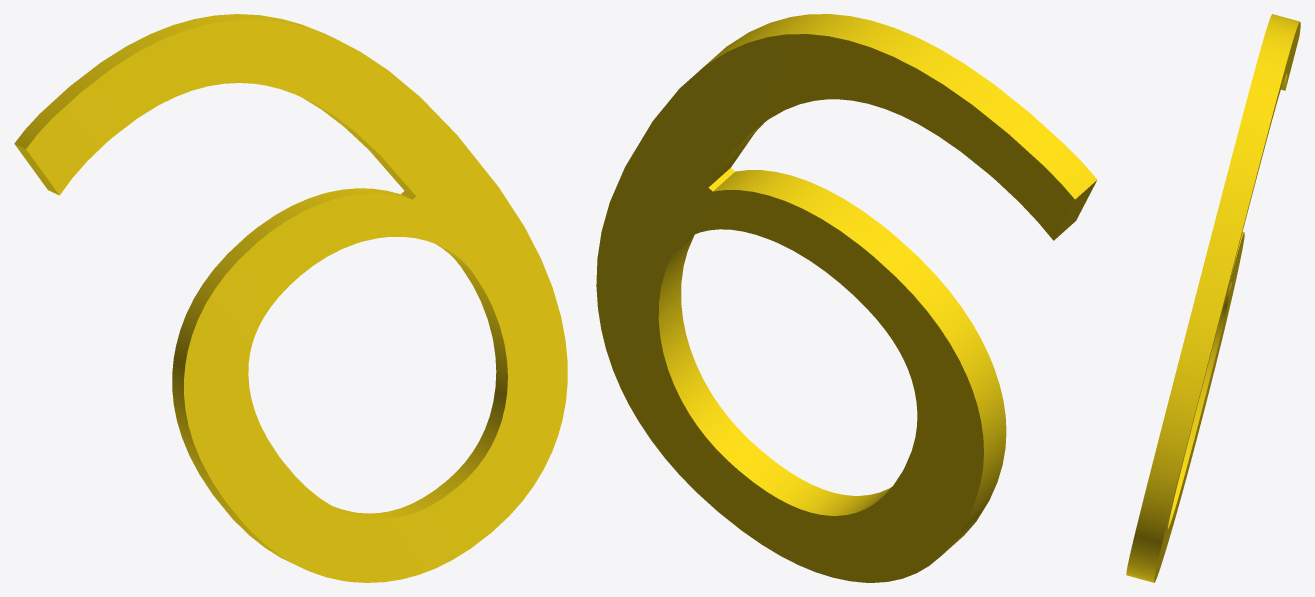
The model's file is Number_9.gltf.
3 views of the same model, side by side, from view 1: azimuth 30°, elevation 25°; view 2: azimuth 150°, elevation 25°; view 3: azimuth 270°, elevation 25° (orthographic). The views are drawn at different scales.
Parts seen in each view (by area): view 1: Sub_6_Cell_3_2_Number_9; view 2: Sub_6_Cell_3_2_Number_9; view 3: Sub_6_Cell_3_2_Number_9.
Part boxes in pixels (x1,y1,x2,y2): Sub_6_Cell_3_2_Number_9: (14,14,567,582); Sub_6_Cell_3_2_Number_9: (596,14,1097,582); Sub_6_Cell_3_2_Number_9: (1126,14,1300,582).
Bounding box in the file's own units: 0.0219 × 0.0236 × 0.00771.
